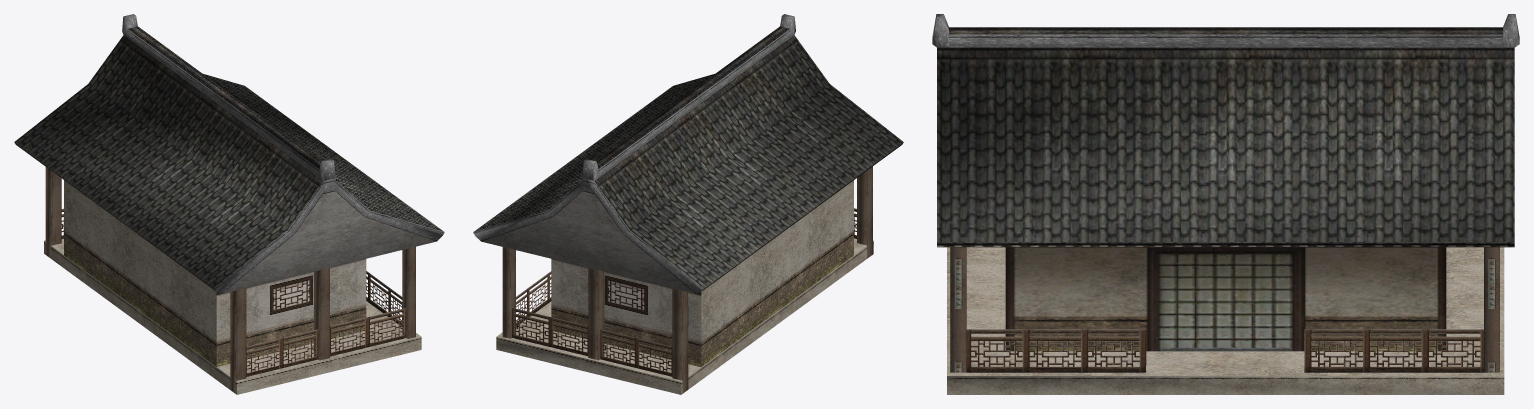
File: cj_rich4_buil03.glb
3 views of the same model, side by side, from view 1: azimuth 30°, elevation 25°; view 2: azimuth 150°, elevation 25°; view 3: azimuth 270°, elevation 25° (orthographic). The views are drawn at different scales.
Visible parts, largest first — view 1: CJ_rich04_buil03_roof, CJ_rich04_buil03_wall01, CJ_rich04_buil03_floor, CJ_rich_buil01_al; view 2: CJ_rich04_buil03_roof, CJ_rich04_buil03_wall01, CJ_rich04_buil03_floor, CJ_rich_buil01_al; view 3: CJ_rich04_buil03_roof, CJ_rich04_buil03_wall02, CJ_rich04_buil03_floor, CJ_rich_buil01_al, CJ_rich04_buil03_wall01.
Boxes of the visible parts, bbox=[...] form: CJ_rich04_buil03_roof: bbox=[14, 14, 444, 293]; CJ_rich04_buil03_wall01: bbox=[45, 167, 415, 393]; CJ_rich04_buil03_floor: bbox=[44, 239, 421, 394]; CJ_rich_buil01_al: bbox=[61, 208, 406, 376]; CJ_rich04_buil03_roof: bbox=[473, 14, 903, 293]; CJ_rich04_buil03_wall01: bbox=[502, 166, 872, 393]; CJ_rich04_buil03_floor: bbox=[496, 238, 873, 394]; CJ_rich_buil01_al: bbox=[512, 208, 856, 376]; CJ_rich04_buil03_roof: bbox=[932, 14, 1519, 247]; CJ_rich04_buil03_wall02: bbox=[1005, 247, 1446, 351]; CJ_rich04_buil03_floor: bbox=[947, 247, 1504, 394]; CJ_rich_buil01_al: bbox=[966, 329, 1483, 372]; CJ_rich04_buil03_wall01: bbox=[950, 247, 1499, 372].
Size of the model in its own units: 8.56 by 7.6 by 13.07.
5 materials, 5 textured.
